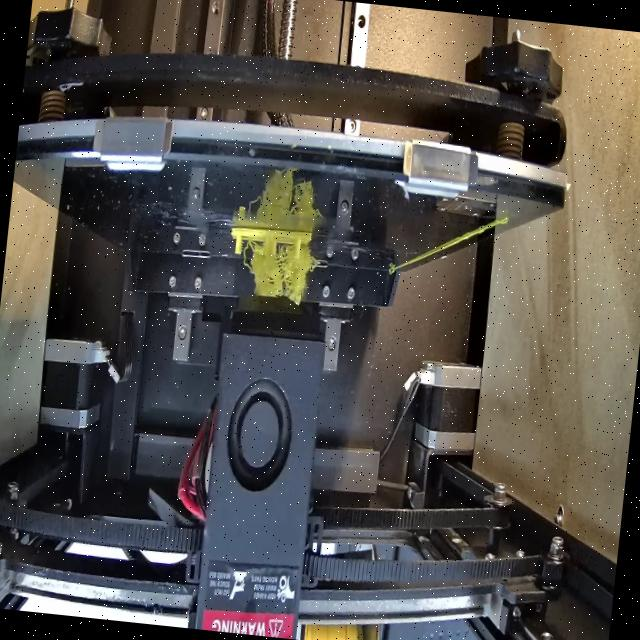spaghetti: (244, 240, 318, 306)
